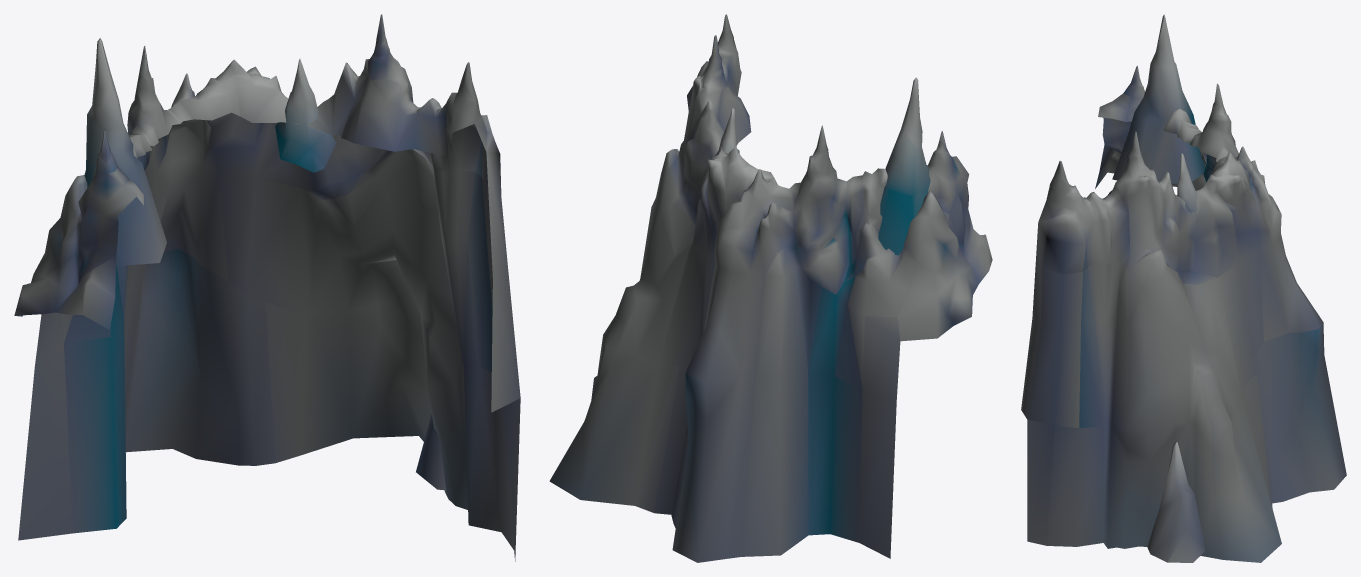
3 views of the same model, side by side, from view 1: azimuth 30°, elevation 25°; view 2: azimuth 150°, elevation 25°; view 3: azimuth 270°, elevation 25° (orthographic). The views are drawn at different scales.
Visible parts, largest first — view 1: G:\FFXIV-MapTools\exports\w1f5\bg\ffxiv\wil_w1\fld\w1f5\bgpa; view 2: G:\FFXIV-MapTools\exports\w1f5\bg\ffxiv\wil_w1\fld\w1f5\bgpa; view 3: G:\FFXIV-MapTools\exports\w1f5\bg\ffxiv\wil_w1\fld\w1f5\bgpa.
Boxes of the visible parts, <box> form: G:\FFXIV-MapTools\exports\w1f5\bg\ffxiv\wil_w1\fld\w1f5\bgpa: <box>14,14,520,561</box>; G:\FFXIV-MapTools\exports\w1f5\bg\ffxiv\wil_w1\fld\w1f5\bgpa: <box>549,14,992,562</box>; G:\FFXIV-MapTools\exports\w1f5\bg\ffxiv\wil_w1\fld\w1f5\bgpa: <box>1021,14,1346,562</box>.
Size of the model in its own units: 131 by 142 by 103.
